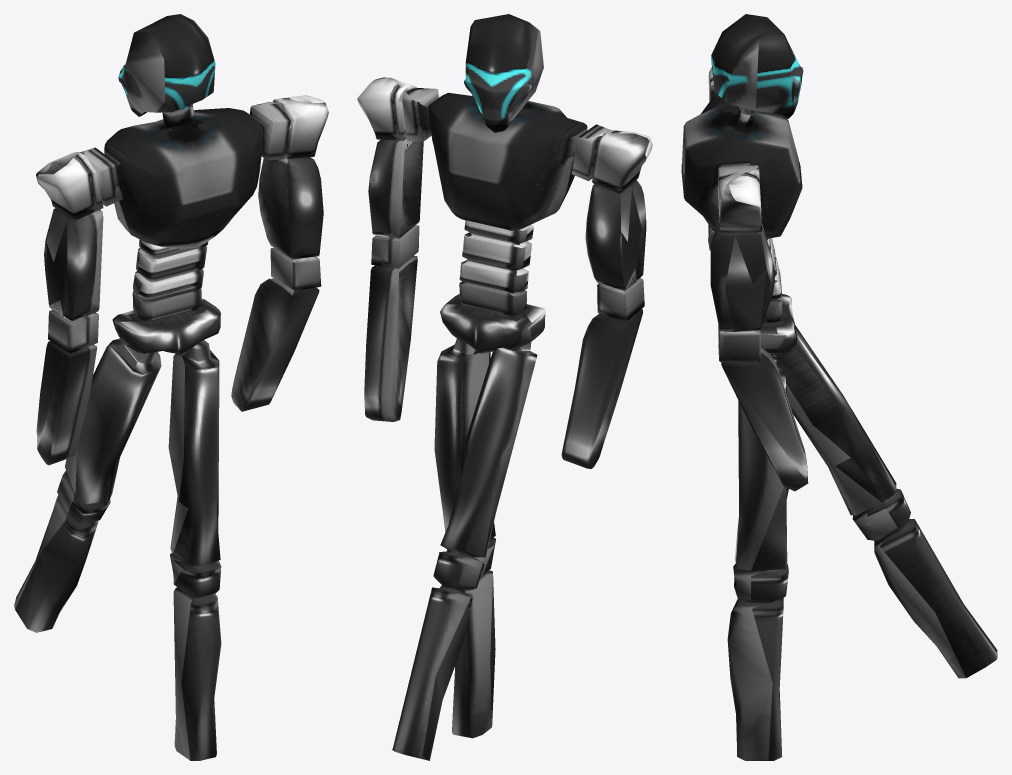
File: frame_030.obj
3 renders of one model, left to right at view 1: azimuth 30°, elevation 25°; view 2: azimuth 150°, elevation 25°; view 3: azimuth 270°, elevation 25°, orthographic. The views are drawn at different scales.
Parts seen in each view (by area): view 1: Cyborg, PiernaD, PierzaI, AntebrazoD, Cabeza, BrazoD; view 2: Cyborg, PierzaI, PiernaD, AntebrazoD, Cabeza, BrazoD; view 3: PierzaI, PiernaD, Cyborg, AntebrazoD, Cabeza, BrazoD.
Boxes of the visible parts, x1,y1,x2,y2 form: Cyborg: [36, 101, 291, 465]; PiernaD: [168, 340, 221, 760]; PierzaI: [14, 338, 161, 632]; AntebrazoD: [258, 95, 328, 290]; Cabeza: [118, 14, 215, 116]; BrazoD: [231, 278, 319, 411]; Cyborg: [402, 88, 652, 468]; PierzaI: [392, 342, 537, 760]; PiernaD: [434, 338, 495, 738]; AntebrazoD: [357, 77, 423, 268]; Cabeza: [464, 14, 543, 132]; BrazoD: [364, 256, 417, 421]; PierzaI: [774, 325, 997, 678]; PiernaD: [727, 354, 788, 760]; Cyborg: [681, 66, 802, 356]; AntebrazoD: [710, 172, 775, 362]; Cabeza: [711, 14, 803, 118]; BrazoD: [721, 348, 808, 491].
Size of the model in its own units: 10.12 by 24.74 by 9.89.
1 material, 1 textured.
